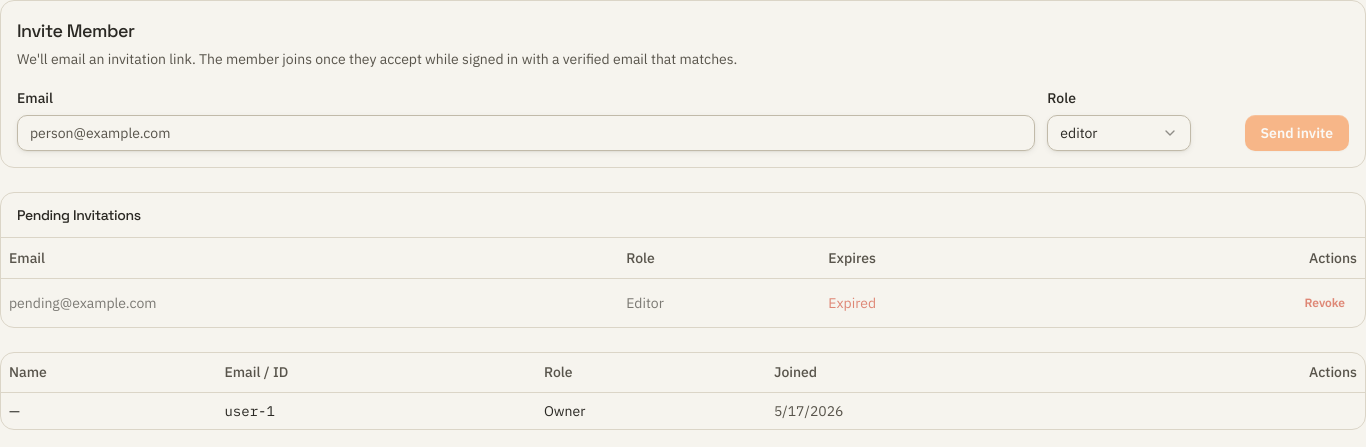
Test case: WorkspaceMembers › lists pending invitations and lets admins revoke them
Expected: the text "pending@example.com" is shown, left=1, top=278, right=618, bottom=326
Click the button "Revoke" at {"x": 1325, "y": 302}, box left=1292, top=286, right=1357, bottom=318
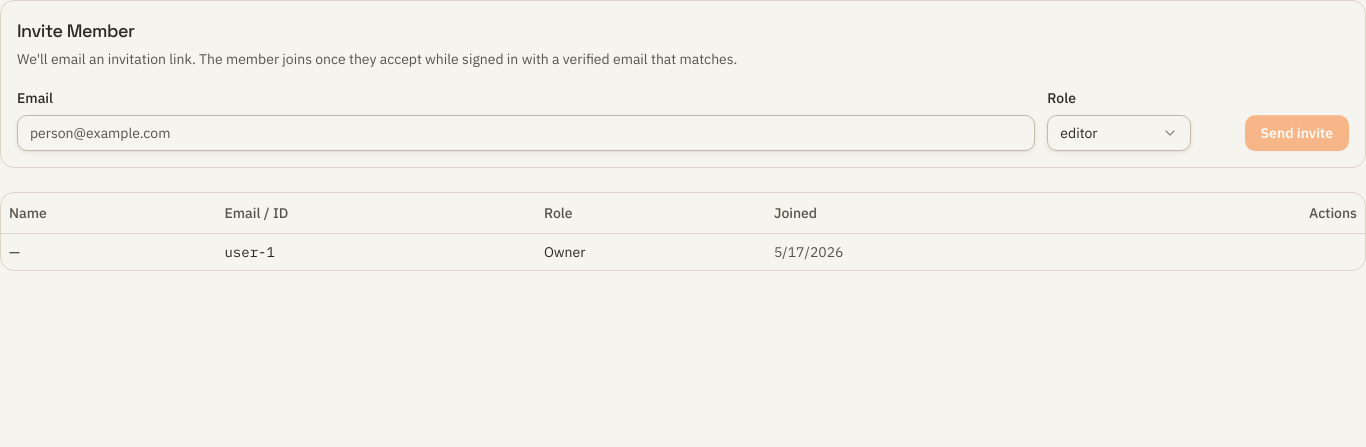
Now the text "pending@example.com" is gone
